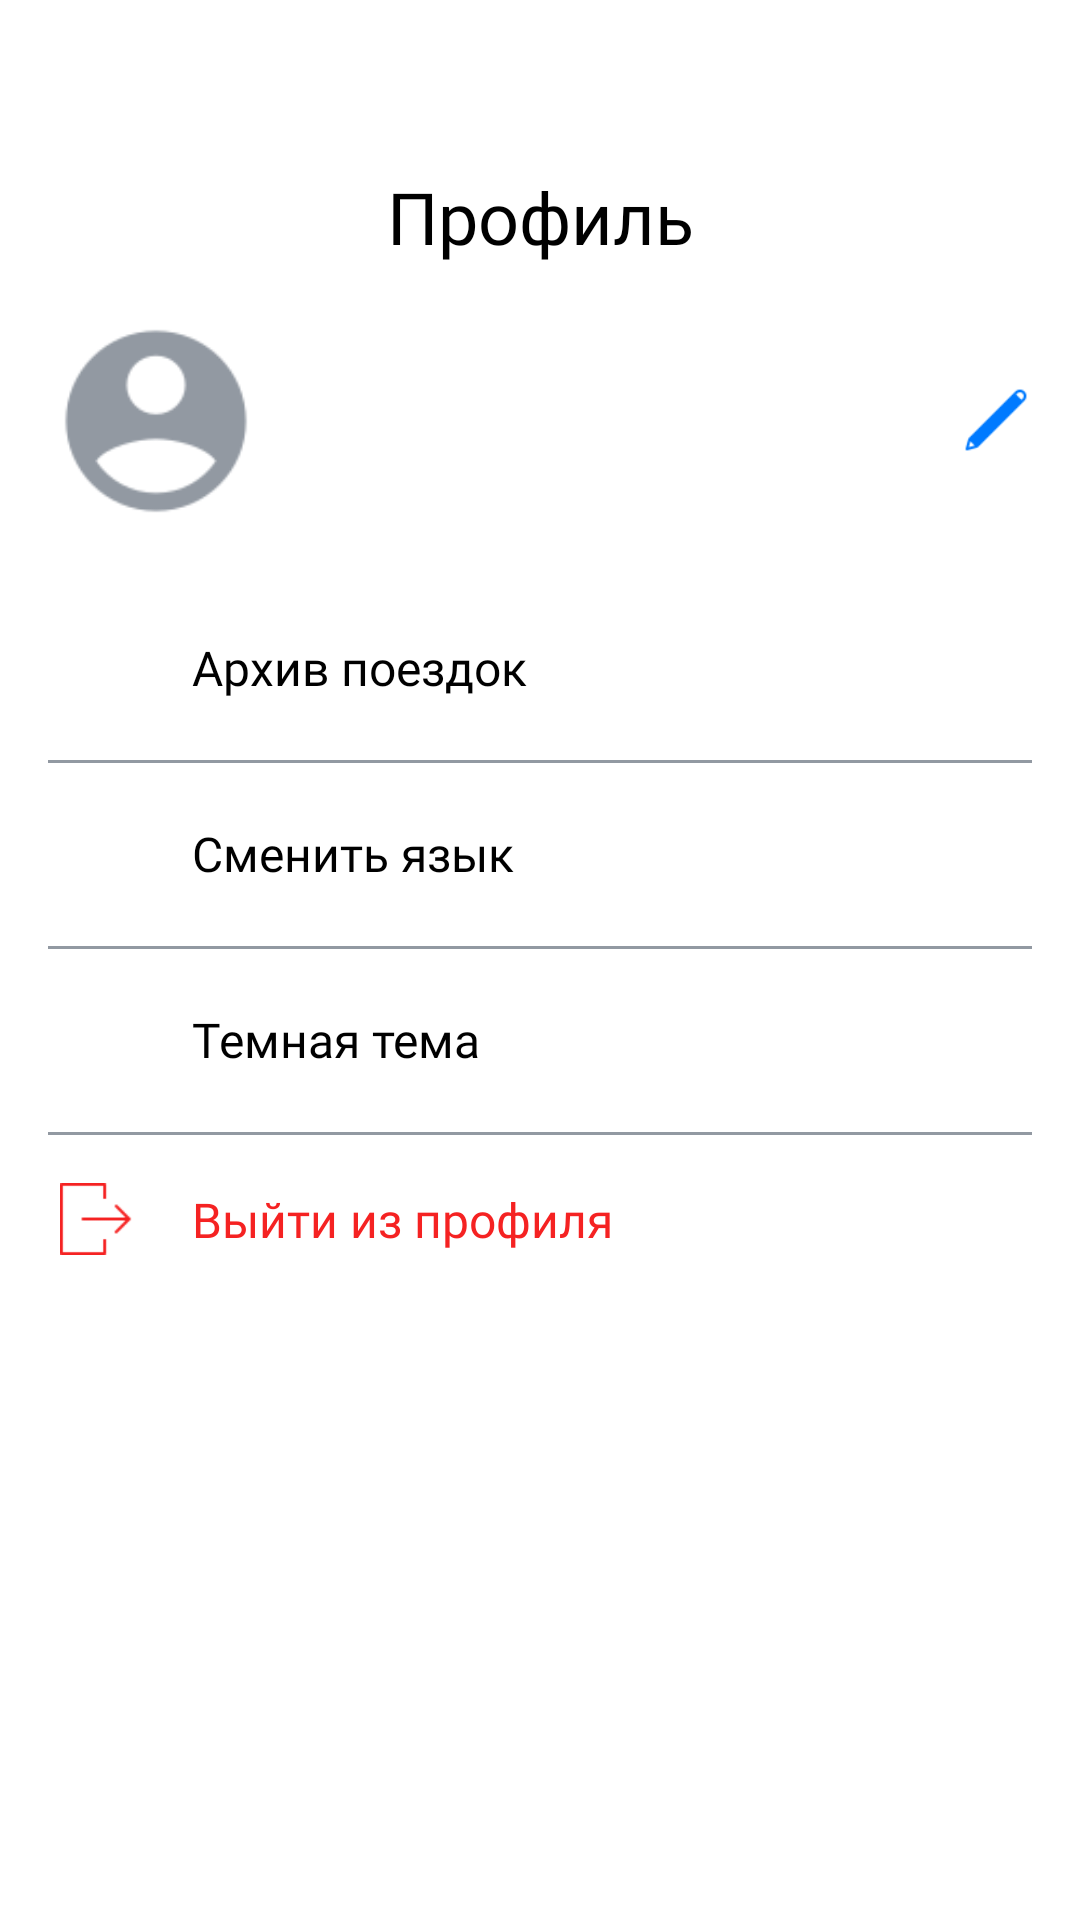

Icons on this 1080 × 1920 Android screen, each with the point to tap as point (x, y):
edit: point (996, 420)
leave: point (95, 1219)
photo profile: point (156, 421)
